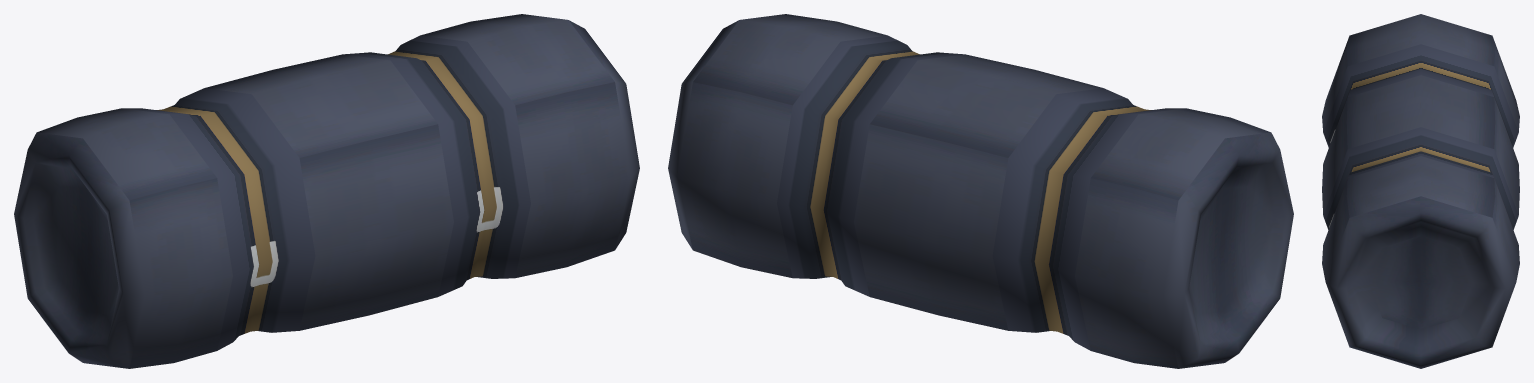
File: SleepingBagHand.fbx
The picture shows the model from 3 angles, left to right: view 1: azimuth 30°, elevation 25°; view 2: azimuth 150°, elevation 25°; view 3: azimuth 270°, elevation 25°; orthographic projection. The views are drawn at different scales.
Parts seen in each view (by area): view 1: DeedPrefab; view 2: DeedPrefab; view 3: DeedPrefab.
Part boxes in pixels (box(x1,y1,x2,y2)): DeedPrefab: box(14, 14, 639, 368); DeedPrefab: box(668, 14, 1293, 368); DeedPrefab: box(1322, 14, 1519, 368).
Bounding box in the file's own units: 1.7 × 0.7321 × 0.7321.
1 material, 1 textured.
